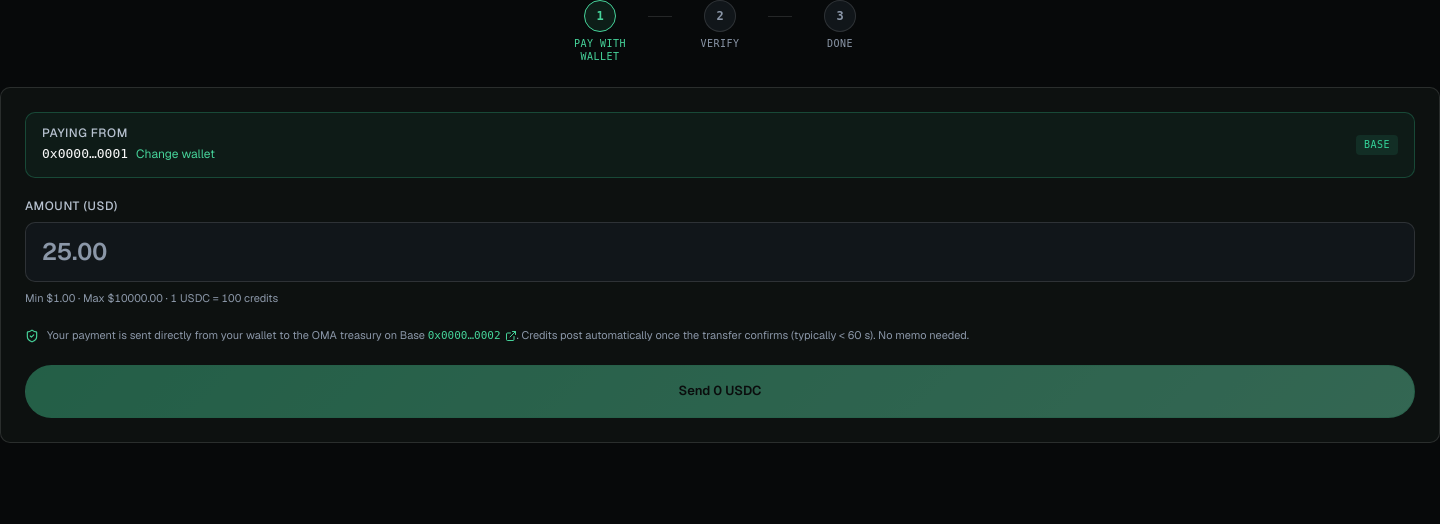
Scenario: USDC broadcast recovery › accepts a leading-dot decimal and applies the configured minimum instead of a precision error
Type ".50" into the field labelled "Amount (USD)" at (720, 252), box [25, 222, 1415, 282]
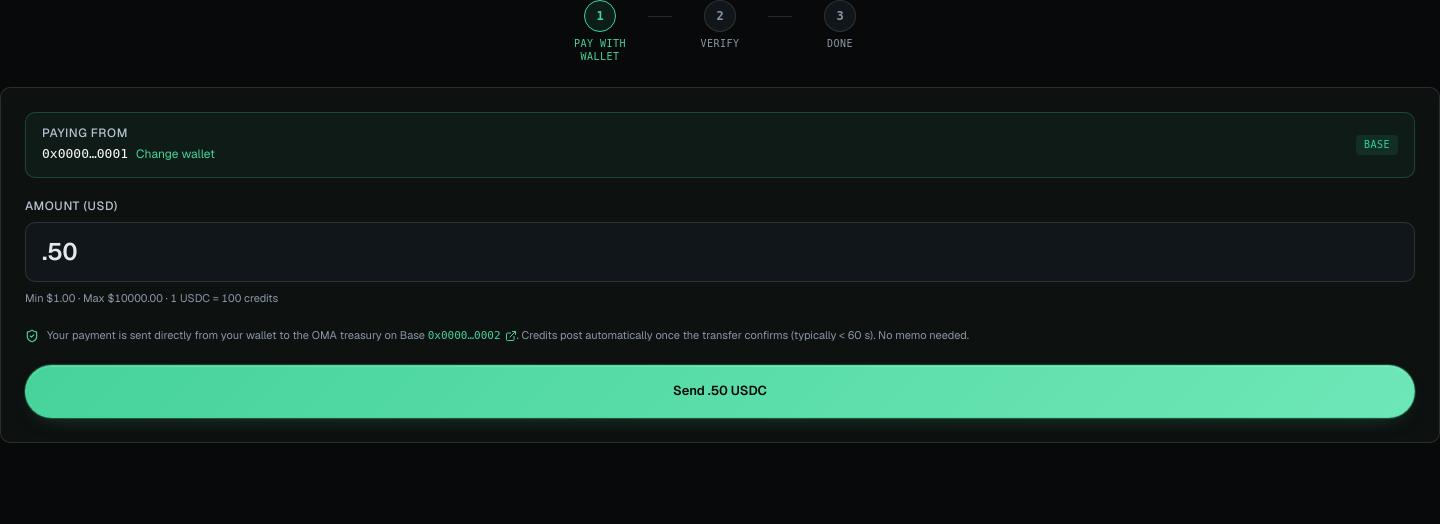
Click the button "Send .50 USDC" at (720, 391), box [25, 365, 1415, 418]
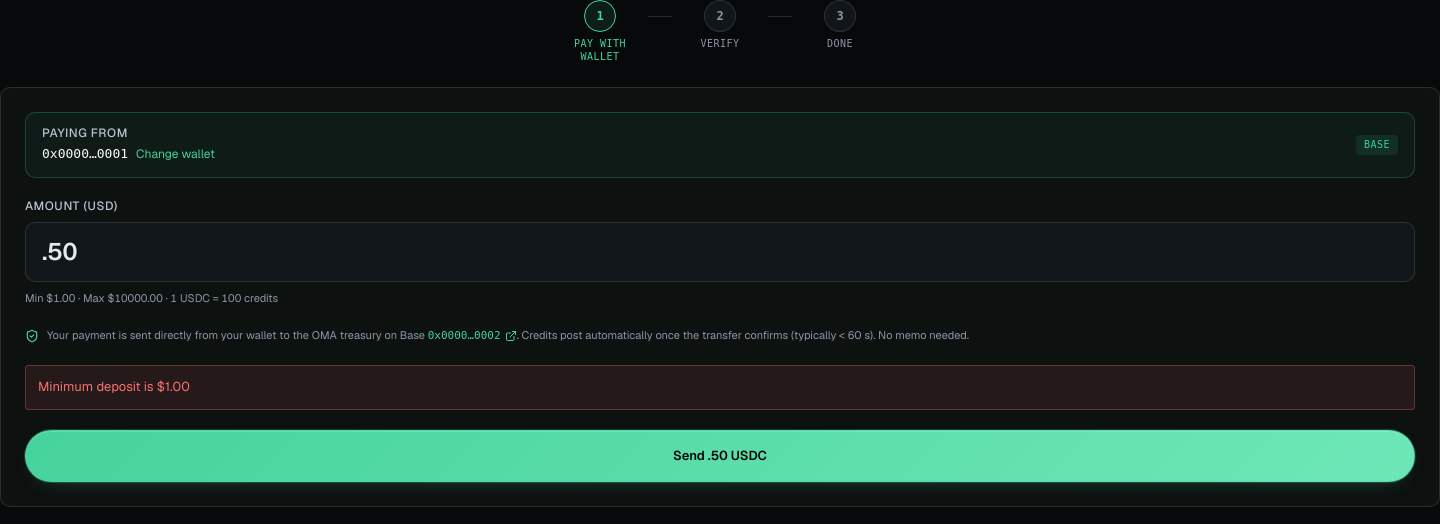
Expected: the text "Minimum deposit is $1.00" is shown, [25, 365, 1415, 410]
